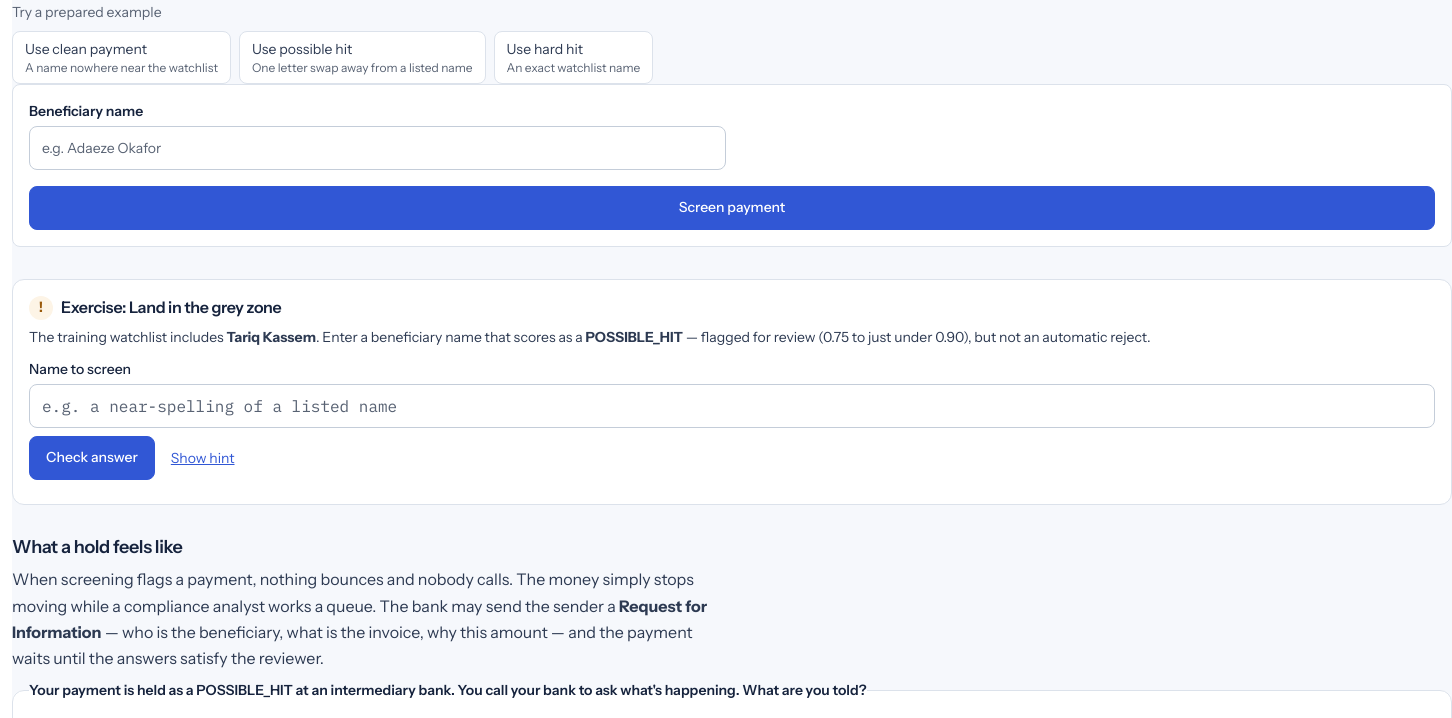
SanctionsContent › rejects an exact watchlist name in the exercise as a hard hit
The image size is (1452, 718).
(page scrolled)
Type "Tariq Kassem" into the field labelled "Name to screen". click: (732, 406)
box: [29, 384, 1435, 428]
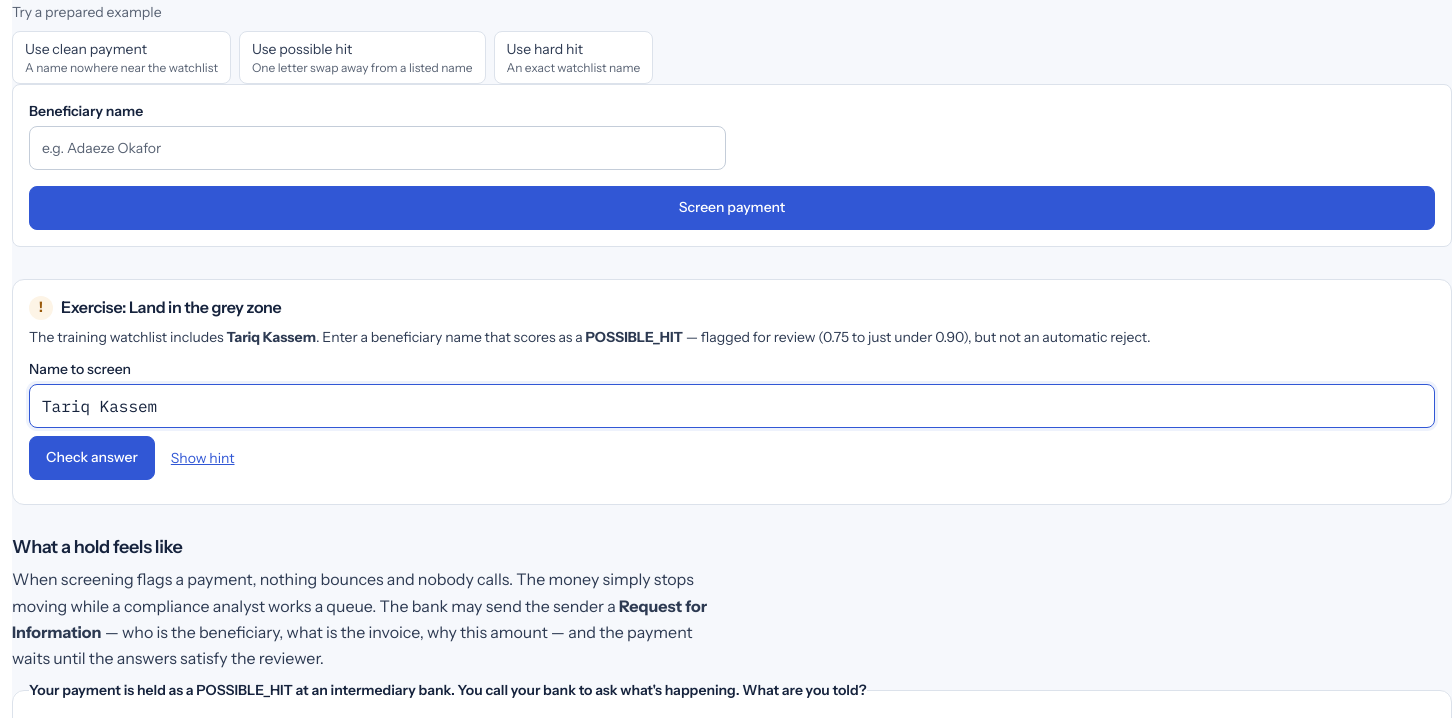
Click the button "Check answer". click: (92, 458)
box: [29, 436, 155, 480]
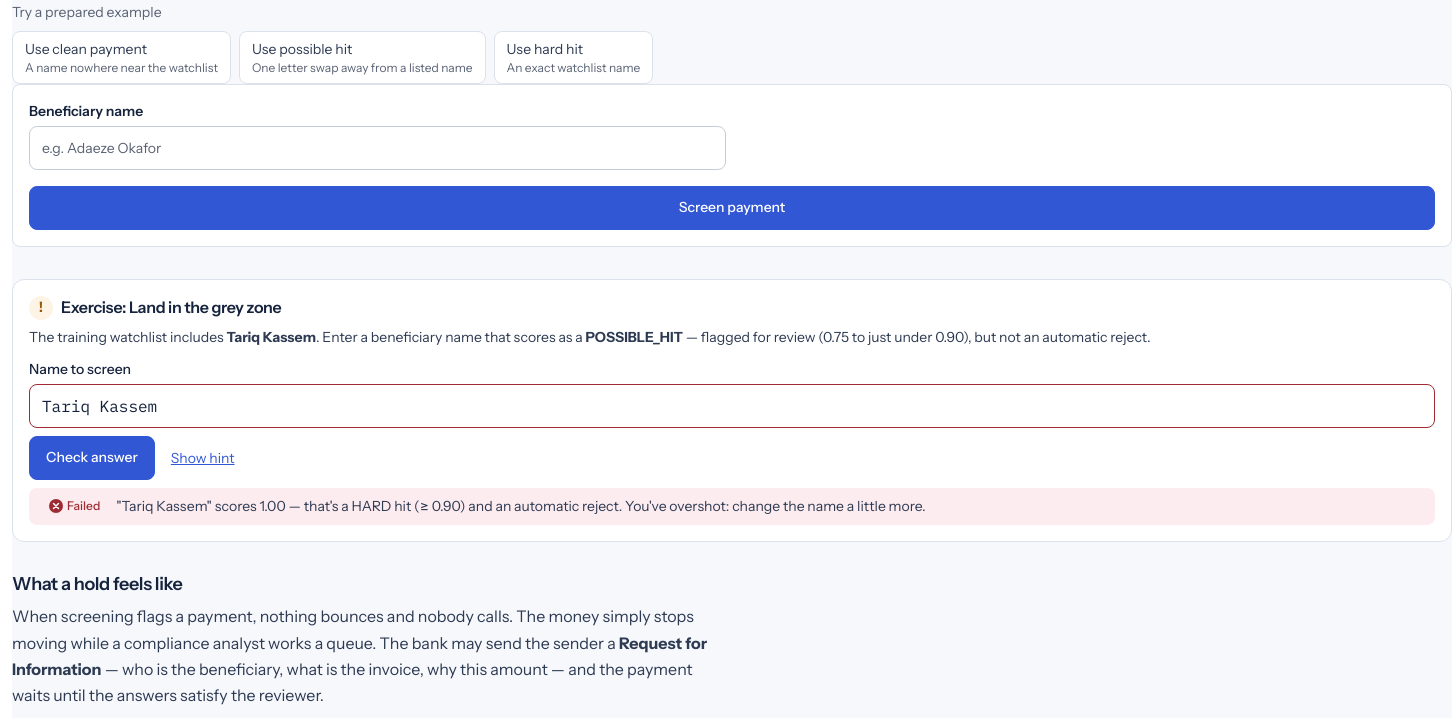
Check: the text "you've overshot" is shown, box [116, 496, 926, 514]
